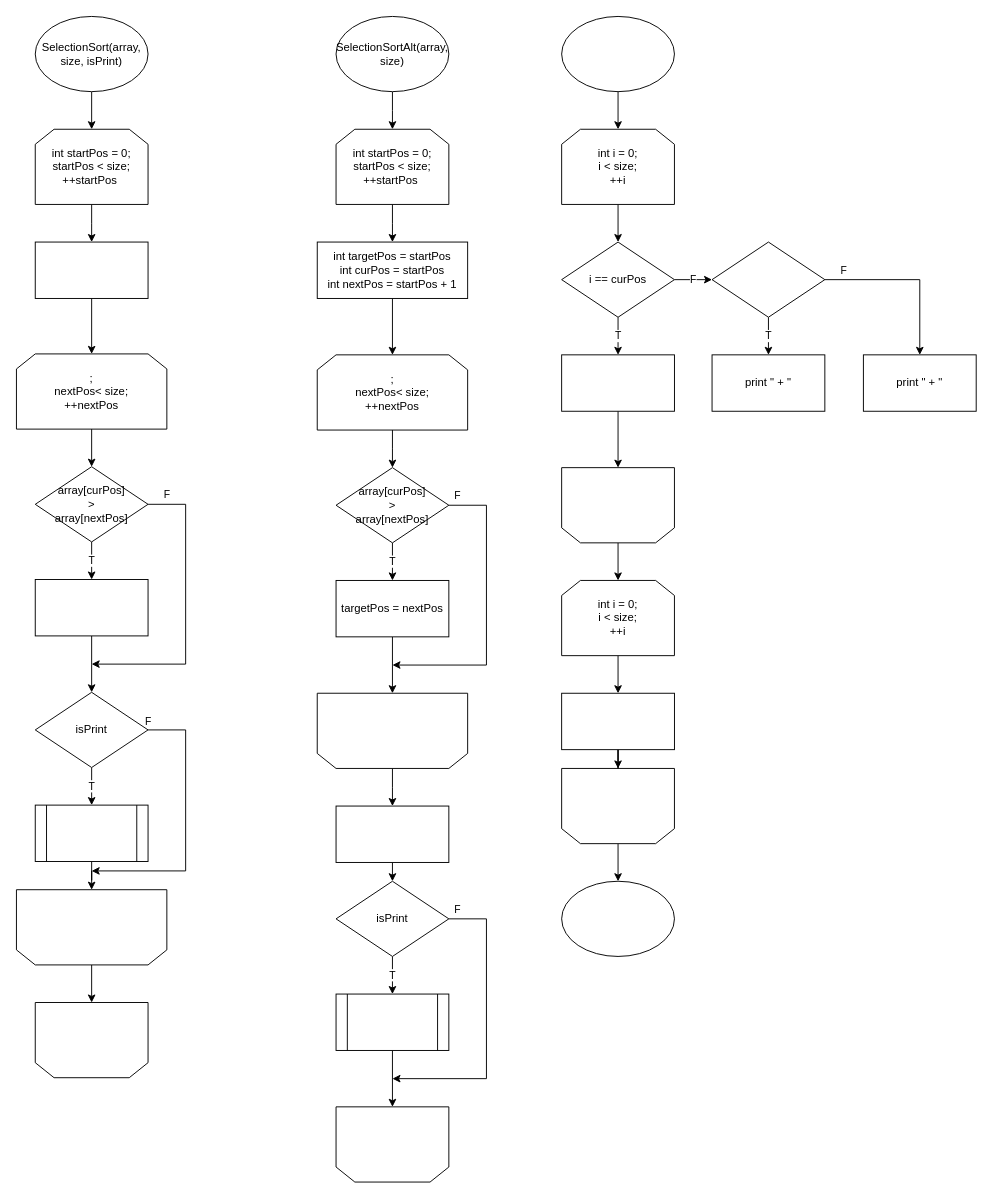
Some shapes in this 993 by 1199 pixel diagram are drawn without their labels. The shapes that lost their labels are listed below. From the top down, each one's centre as x and y in pixels, then its label:
(x=617, y=54): PrintArray (array, size, curPos, targetPos)
(x=91, y=269): int curPos = startPos int nextPos = startPos + 1
(x=768, y=279): i == targetPos
(x=617, y=382): print " * "
(x=91, y=607): swap(array[curPos], array[nextPos])
(x=617, y=721): print array[i]
(x=91, y=833): PrintArray(array, size, curPos, nextPos)
(x=392, y=833): swap(array[curPos], array[targetPos])
(x=392, y=1021): PrintArray(array, size, curPos, targetPos)
